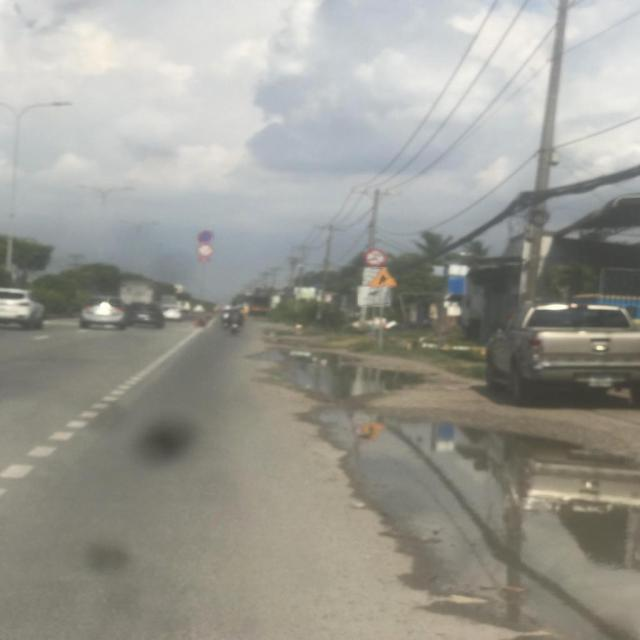cam_dung_xe_va_do_xe: (198, 230, 214, 244)
cam_o_to_tai_va_xe_khach: (364, 247, 387, 266)
cam_xe_2_banh_va_xe_3_banh_co_dong_co: (196, 244, 213, 256)
giao_nhau_voi_duong_khong_uu_tien: (367, 267, 397, 288)
khac: (358, 287, 390, 307), (362, 267, 382, 286)
